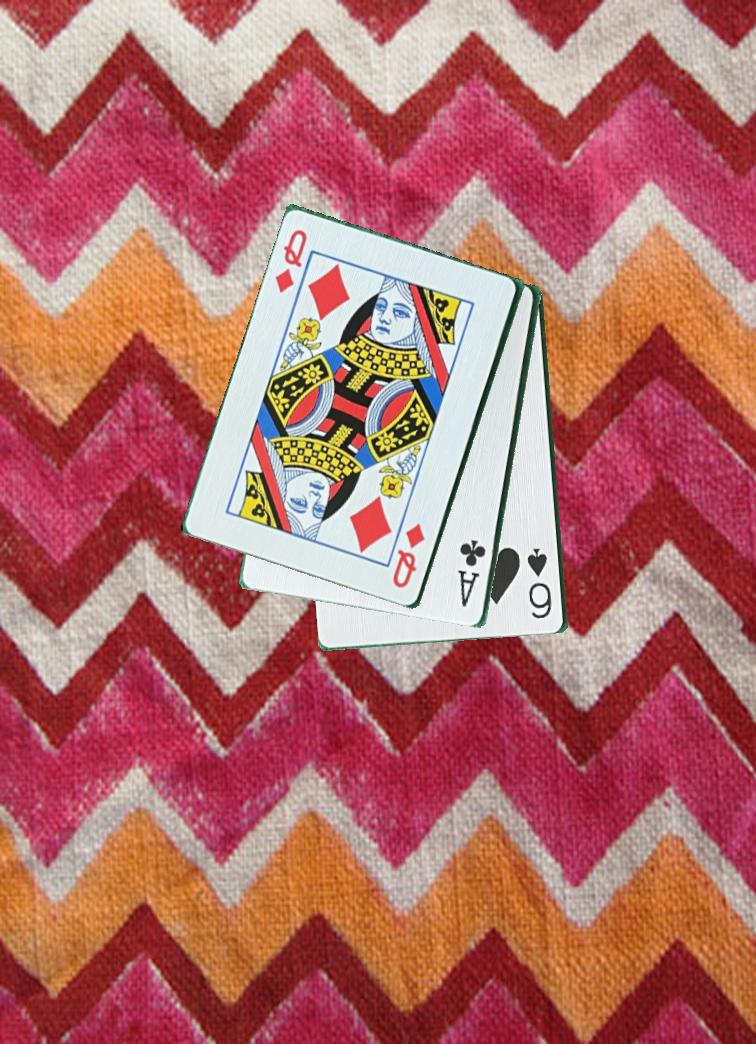6s: (525, 543, 555, 622)
ac: (456, 536, 490, 611)
qd: (388, 520, 428, 592), (271, 226, 311, 297)
